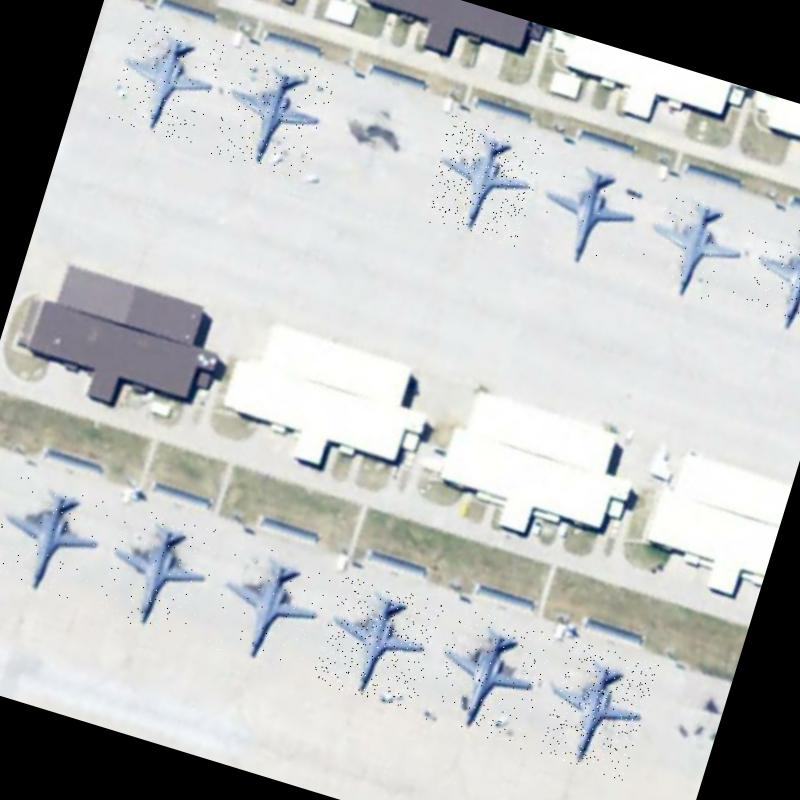A10: (423, 606, 556, 750), (310, 574, 446, 714), (204, 540, 335, 680), (94, 501, 224, 642), (209, 45, 338, 184), (538, 639, 659, 781), (420, 115, 548, 249), (634, 184, 760, 312), (530, 151, 654, 279), (106, 16, 226, 146), (0, 469, 114, 604), (742, 219, 800, 341)
